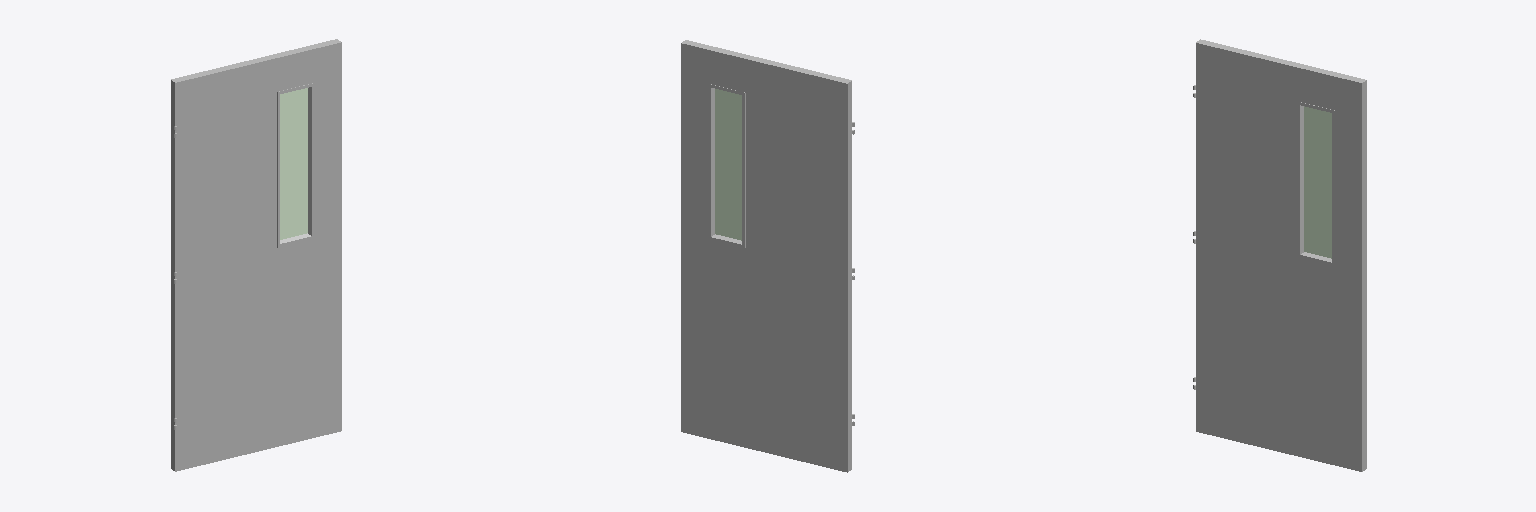
File: door1.obj
3 views of the same model, side by side, from view 1: azimuth 30°, elevation 25°; view 2: azimuth 150°, elevation 25°; view 3: azimuth 330°, elevation 25° (orthographic).
Visible parts, largest first — view 1: door_005_Cylinder.022; view 2: door_005_Cylinder.022; view 3: door_005_Cylinder.022.
Boxes of the visible parts, <box> form: door_005_Cylinder.022: <box>171,39,341,471</box>; door_005_Cylinder.022: <box>681,40,854,472</box>; door_005_Cylinder.022: <box>1193,39,1366,471</box>.
Bounding box in the file's own units: 1.24 × 2.74 × 0.0809.